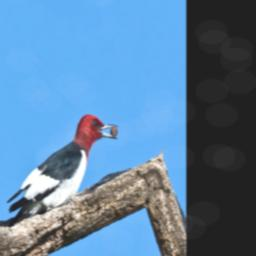Woodpecker: (2, 76, 123, 256)
